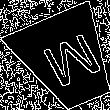M_SE: (31, 28, 102, 93)
